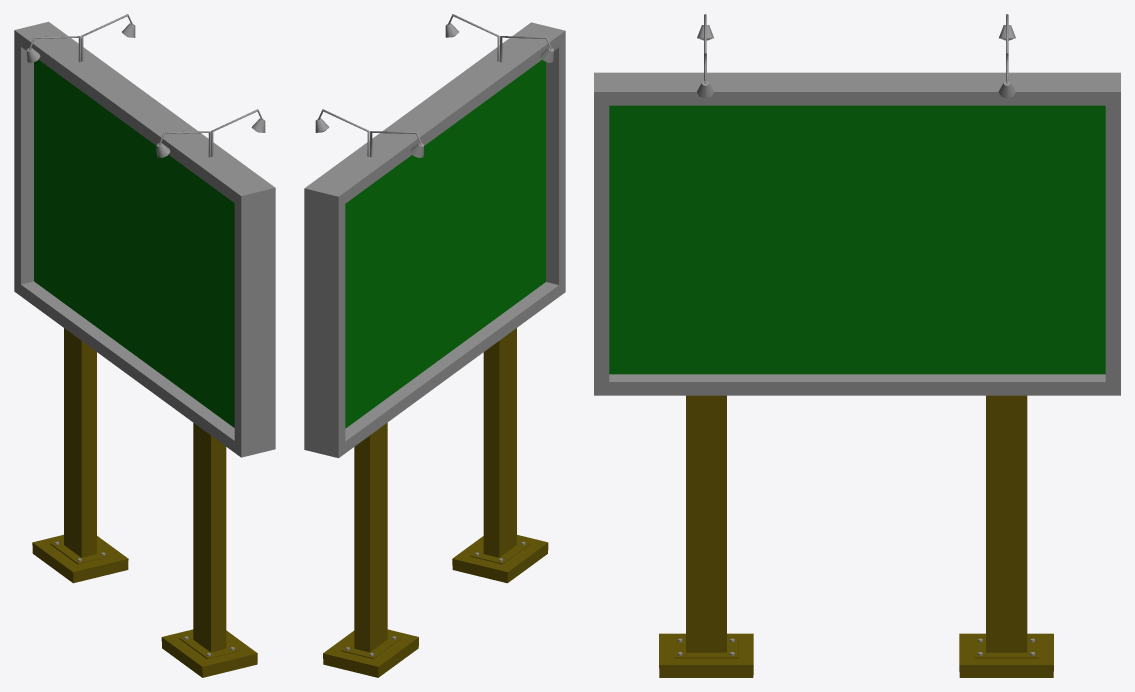
File: billboard.FBX
3 renders of one model, left to right at view 1: azimuth 30°, elevation 25°; view 2: azimuth 150°, elevation 25°; view 3: azimuth 270°, elevation 25°, orthographic. The views are drawn at different scales.
Visible parts, largest first — view 1: Box002; view 2: Box002; view 3: Box002.
Part boxes in pixels (x1,y1,x2,y2): Box002: (14, 14, 275, 677); Box002: (304, 14, 565, 677); Box002: (594, 14, 1120, 677).
Bounding box in the file's own units: 35.56 × 169 × 130.
